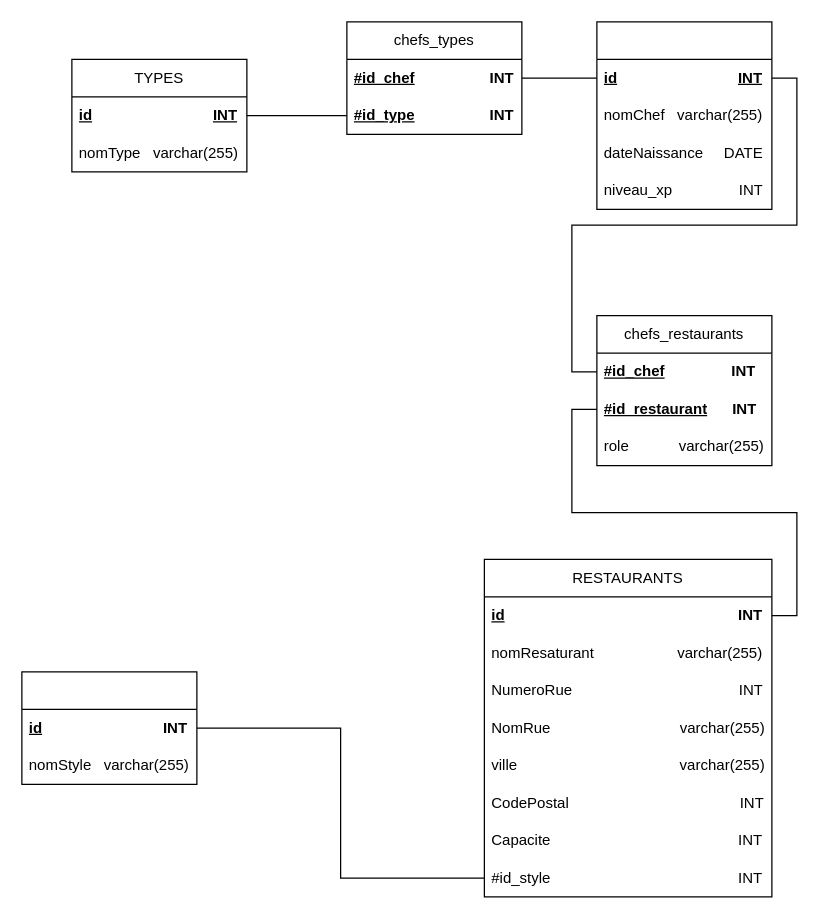
This 820x919 diagram has some shape labels left out. Each missing label, with the box of its shape:
CHEFS: (596, 21, 772, 209)
STYLES: (21, 671, 197, 784)
